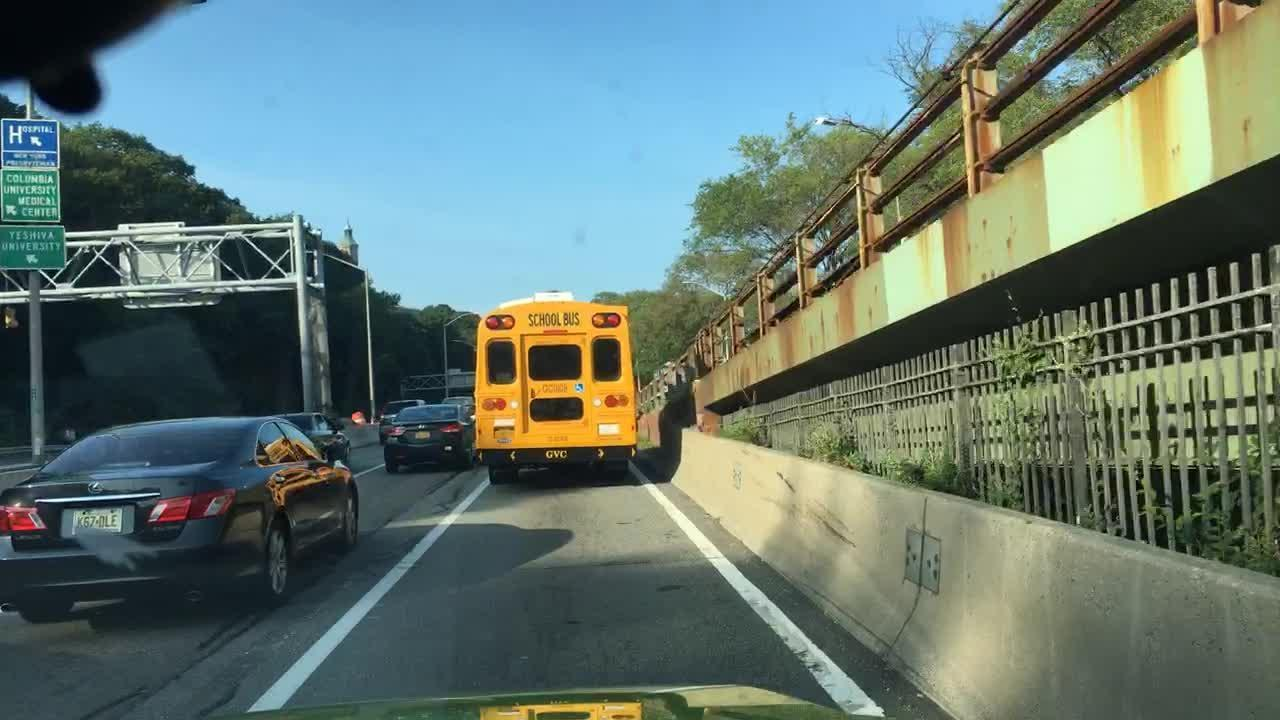lexus: (77, 475, 114, 501)
